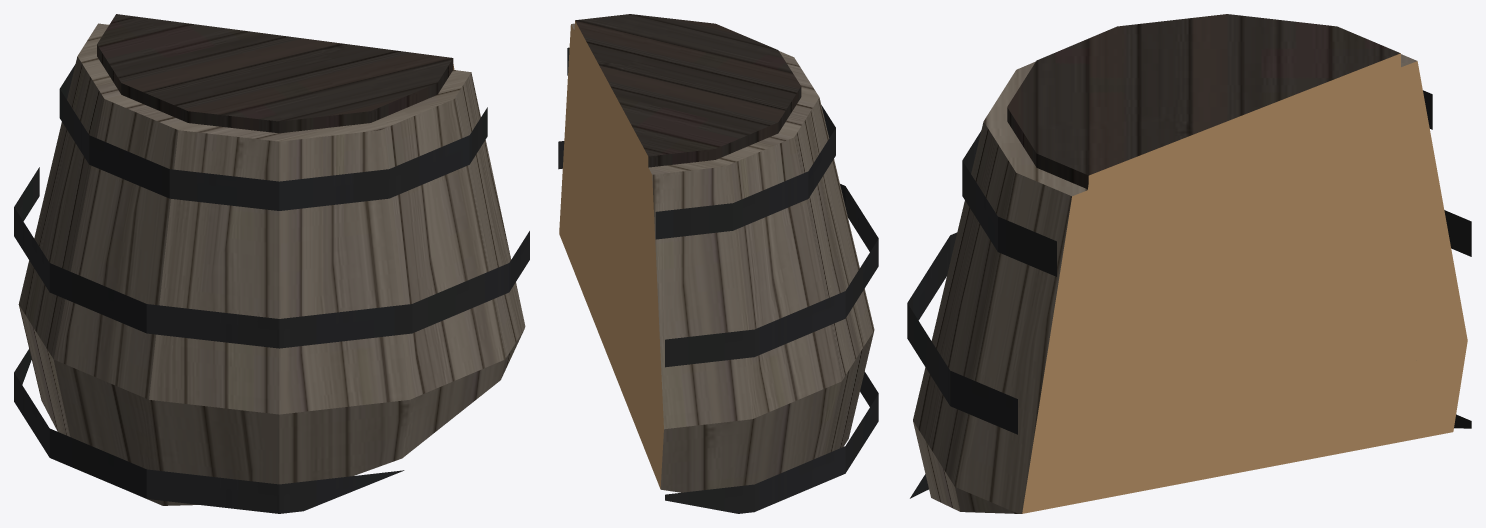
The model's file is barrel_01_shard_2.glb.
3 renders of one model, left to right at view 1: azimuth 30°, elevation 25°; view 2: azimuth 150°, elevation 25°; view 3: azimuth 270°, elevation 25°, orthographic. The views are drawn at different scales.
Parts seen in each view (by area): view 1: barrel_01_shard_2; view 2: barrel_01_shard_2; view 3: barrel_01_shard_2.
Boxes of the visible parts, <box> form: barrel_01_shard_2: <box>14,14,529,513</box>; barrel_01_shard_2: <box>558,14,878,513</box>; barrel_01_shard_2: <box>907,14,1471,513</box>.
Size of the model in its own units: 0.6968 by 0.6367 by 0.7179.
4 materials, 3 textured.
